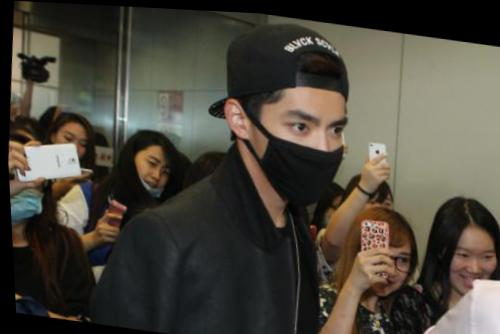NONE: (446, 228, 497, 298), (361, 238, 410, 297), (51, 125, 89, 170)
OK: (255, 91, 352, 208)
WRONG: (131, 148, 170, 199)
